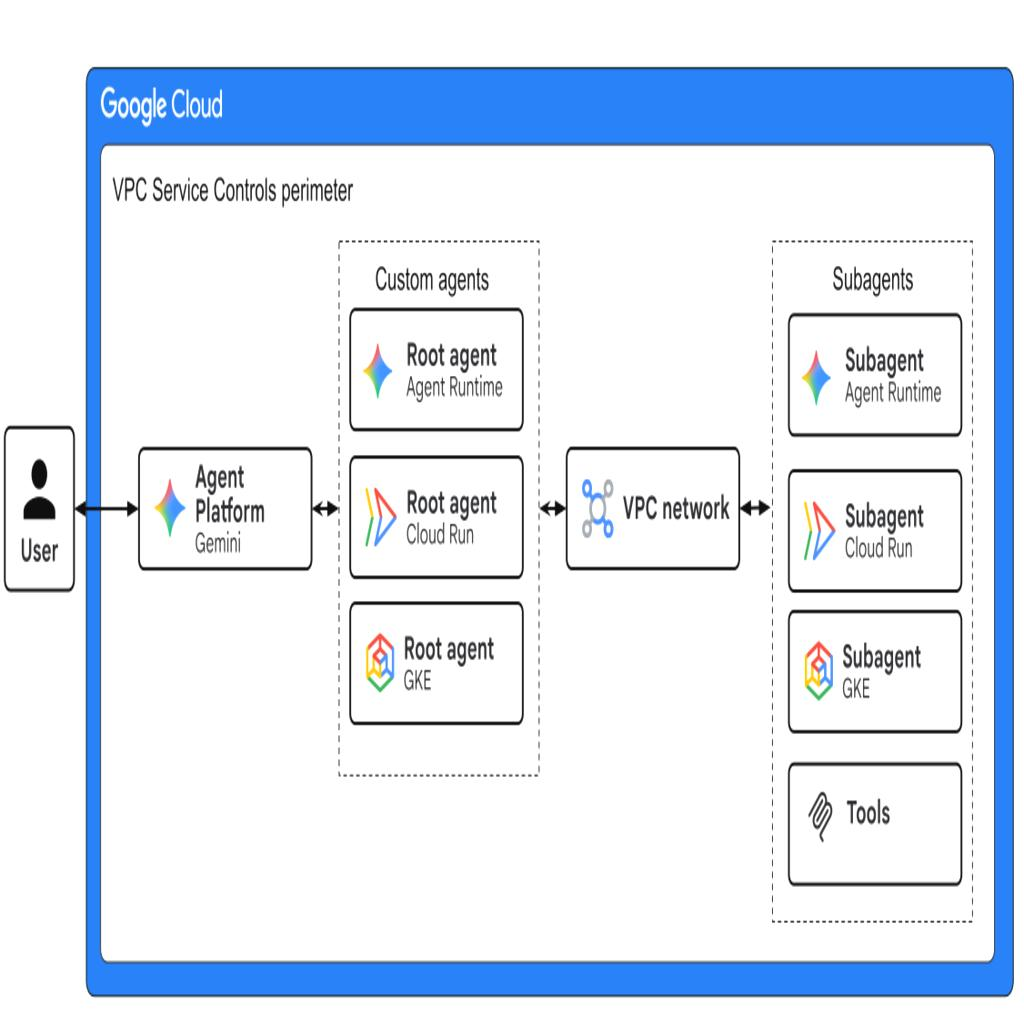actor: (0, 422, 78, 592)
compute: (337, 307, 533, 430), (337, 604, 533, 727), (776, 307, 972, 430), (776, 469, 972, 592), (776, 609, 972, 732), (126, 446, 322, 568), (337, 456, 533, 578)
data_flow: (79, 504, 132, 510), (750, 504, 762, 510), (322, 504, 332, 510), (547, 504, 557, 510)
database_storage: (776, 763, 972, 886)
network_security: (554, 446, 750, 568)
trust_boundary: (84, 106, 1014, 951), (101, 159, 997, 947), (757, 238, 986, 919), (324, 238, 553, 776)
